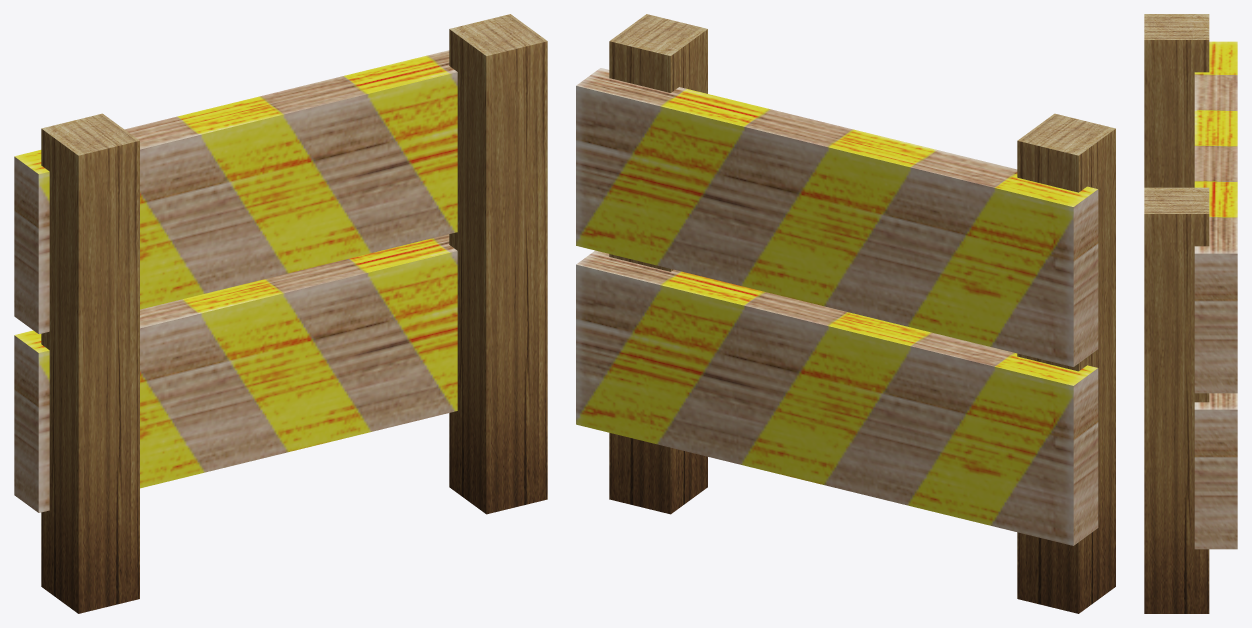
The model's file is Hurdle02.FBX.
The picture shows the model from 3 angles, left to right: view 1: azimuth 30°, elevation 25°; view 2: azimuth 150°, elevation 25°; view 3: azimuth 270°, elevation 25°; orthographic projection. The views are drawn at different scales.
Visible parts, largest first — view 1: Hurdle02; view 2: Hurdle02; view 3: Hurdle02.
Part boxes in pixels (box(x1,y1,x2,y2)): Hurdle02: box(14, 14, 547, 613); Hurdle02: box(576, 14, 1115, 613); Hurdle02: box(1144, 14, 1237, 613).
Bounding box in the file's own units: 12.7 × 11.18 × 2.36.
